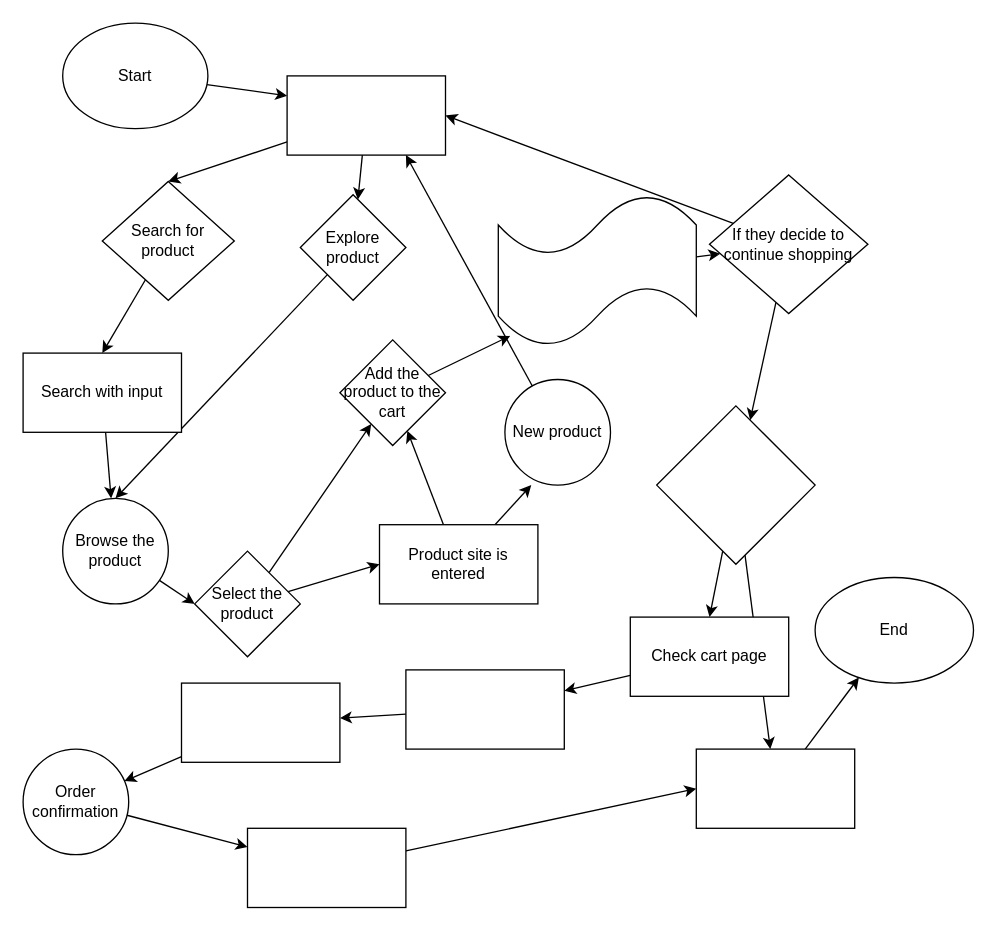
Image size: 997x931. Some labels were removed from this diagram. The shapes that lost their labels are listed below. From the top down, each one's box as (x1, y1, x2, y2) in pixels, then its label:
(286, 75, 446, 155): User enters website
(497, 193, 696, 346): Cart added confirmation
(655, 405, 815, 564): If checkout
(180, 682, 340, 762): Add payment details
(405, 669, 564, 749): Payment page
(695, 748, 855, 828): Exit web page
(246, 827, 406, 908): Email sent to user
